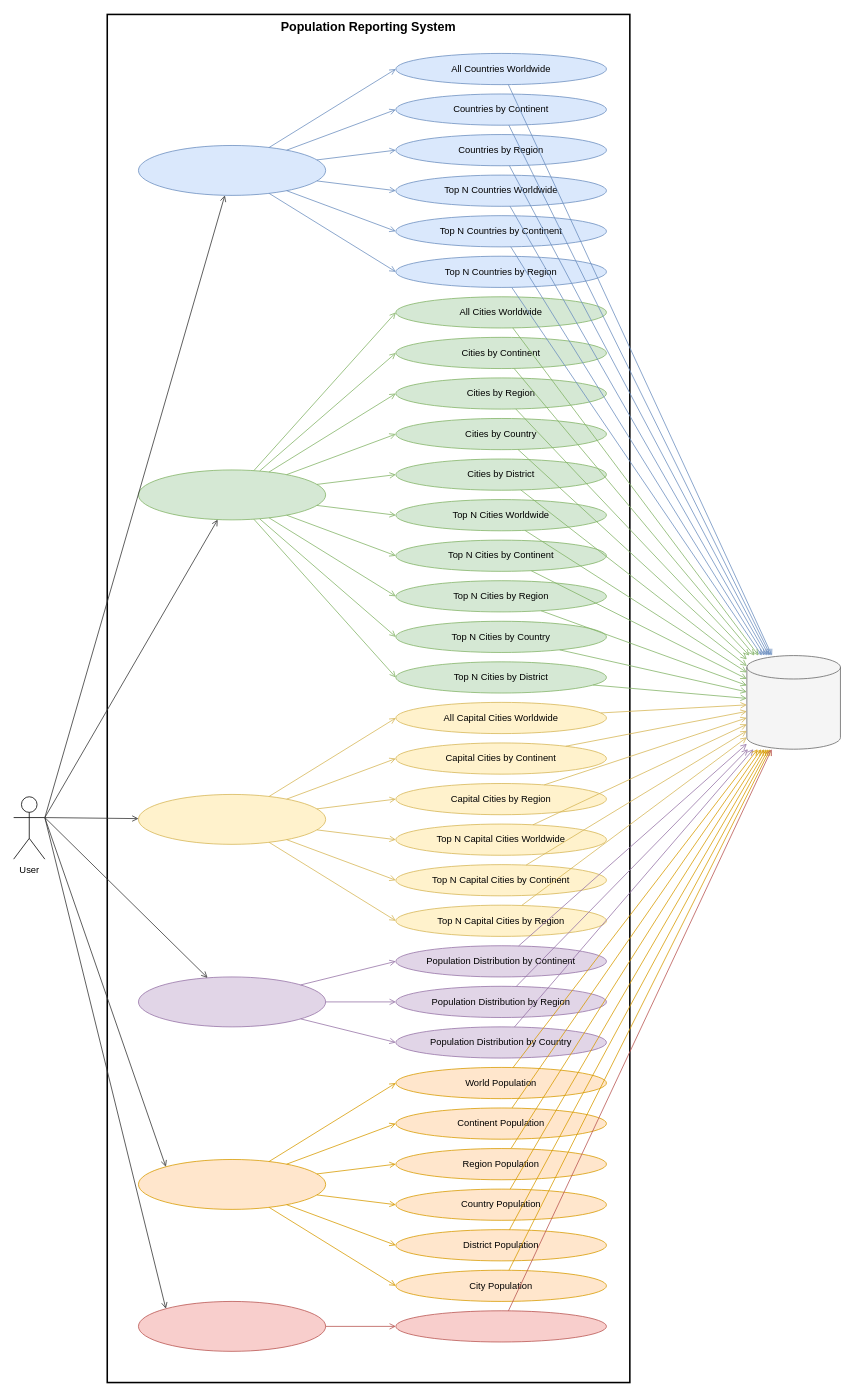
The diagram is 854 pixels wide and 1396 high, and some of its shapes have lost their labels. Each missing label, with the centre of its shape:
Generate Capital City Report: (x=232, y=819)
Generate City Report: (x=232, y=494)
Generate Country Report: (x=232, y=170)
Generate Language Population Report: (x=232, y=1326)
Generate Population Distribution Report: (x=232, y=1001)
Generate Population Total Report: (x=232, y=1184)
Language Population Report: (x=500, y=1326)
Population Database: (x=793, y=702)
